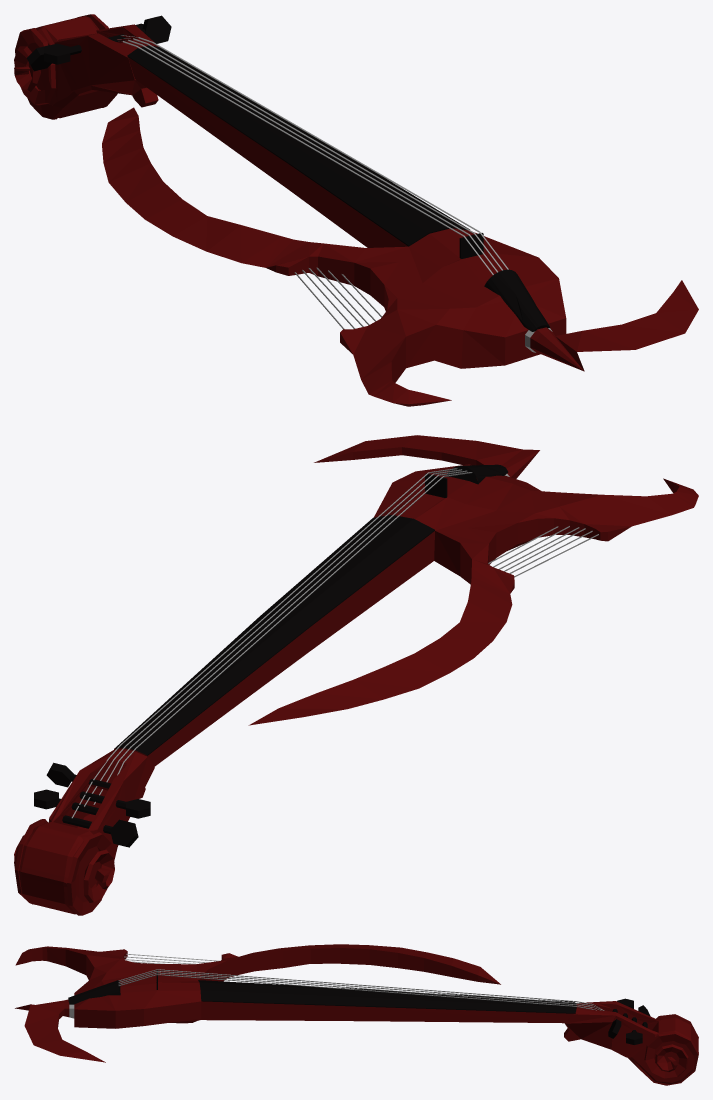
The model's file is AXE_V2.FBX.
The picture shows the model from 3 angles, top to bottom: view 1: azimuth 30°, elevation 25°; view 2: azimuth 150°, elevation 25°; view 3: azimuth 270°, elevation 25°; orthographic projection. The views are drawn at different scales.
Parts seen in each view (by area): view 1: Line004; view 2: Line004; view 3: Line004.
Part boxes in pixels (x1=…): Line004: x1=14, y1=14, x2=698, y2=406; Line004: x1=14, y1=435, x2=698, y2=915; Line004: x1=15, y1=944, x2=698, y2=1085.
Bounding box in the file's own units: 174 × 77.26 × 449.
